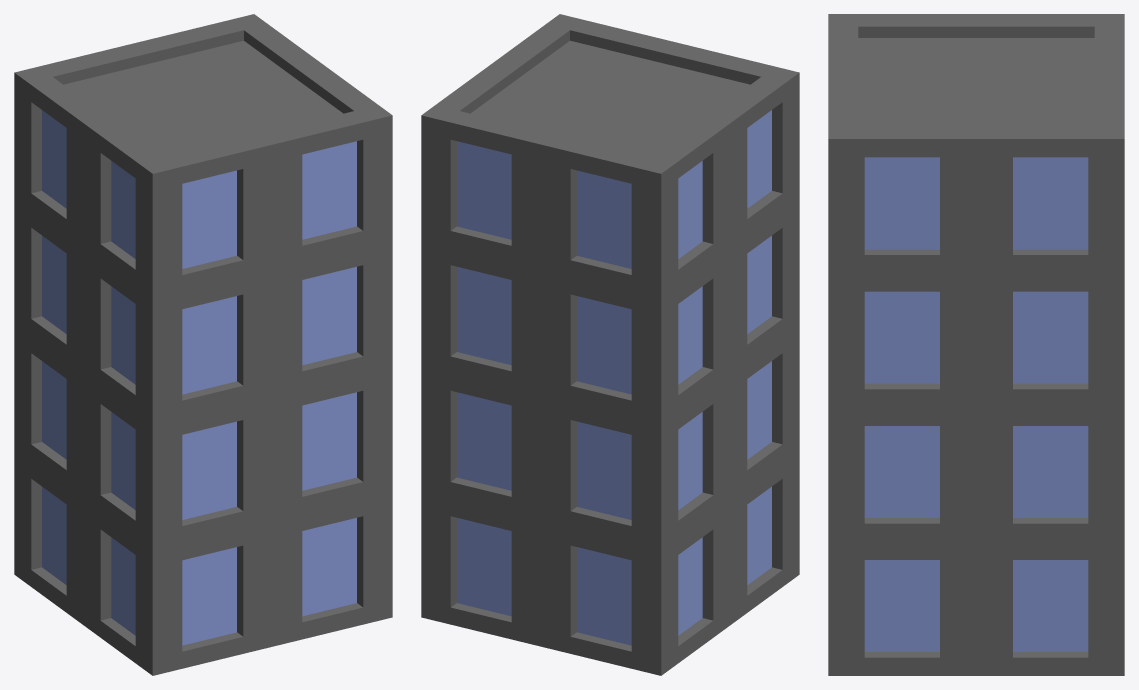
The model's file is tower-block.glb.
3 views of the same model, side by side, from view 1: azimuth 30°, elevation 25°; view 2: azimuth 150°, elevation 25°; view 3: azimuth 270°, elevation 25° (orthographic). The views are drawn at different scales.
Parts seen in each view (by area): view 1: tower; view 2: tower; view 3: tower.
Boxes of the visible parts, x1,y1,x2,y2 form: tower: (14,14,392,675); tower: (421,14,799,675); tower: (828,14,1124,675).
Size of the model in its own units: 2 by 4 by 2.
